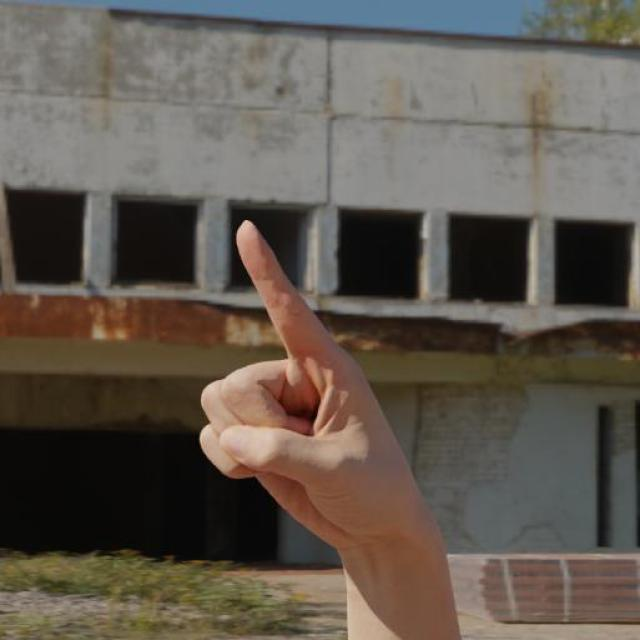Z: (195, 216, 428, 558)
